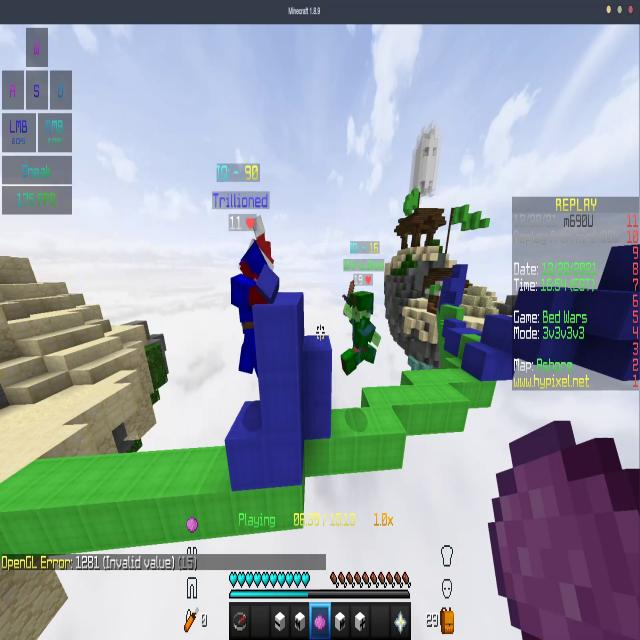Player: (220, 224, 281, 372), (339, 268, 382, 384)
